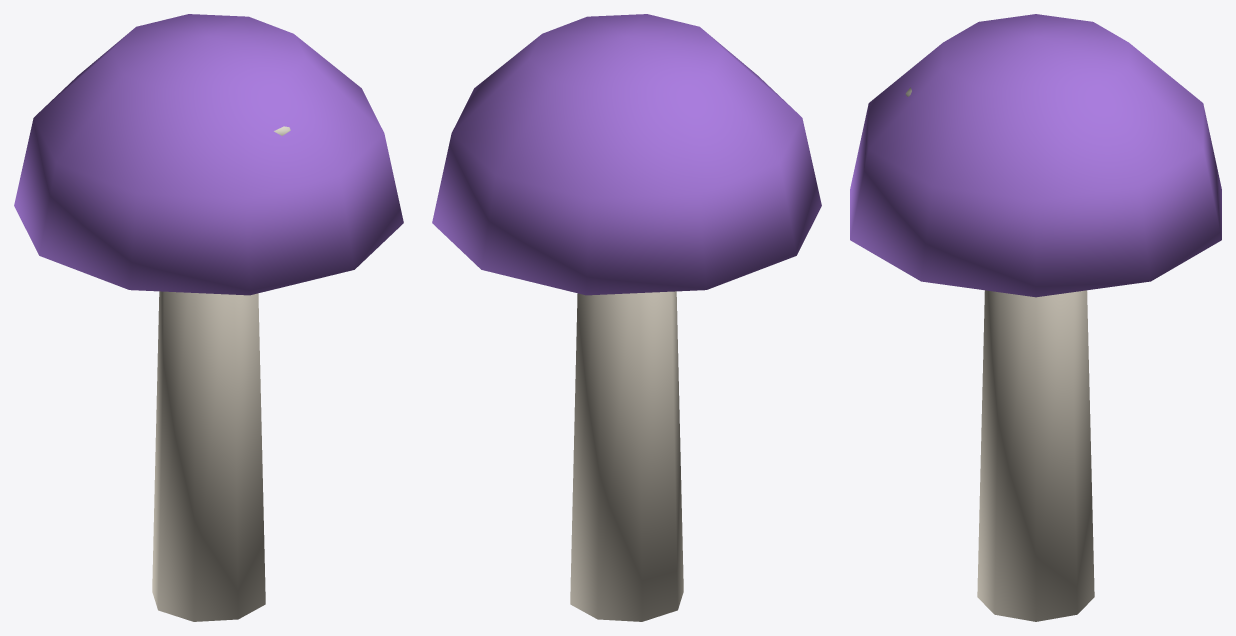
The model's file is strange_glowing_mushroom.glb.
3 renders of one model, left to right at view 1: azimuth 30°, elevation 25°; view 2: azimuth 150°, elevation 25°; view 3: azimuth 270°, elevation 25°, orthographic.
Visible parts, largest first — view 1: strange_glowing_mushroom_v0; view 2: strange_glowing_mushroom_v0; view 3: strange_glowing_mushroom_v0.
Boxes of the visible parts, x1,y1,x2,y2 form: strange_glowing_mushroom_v0: (14, 14, 403, 621); strange_glowing_mushroom_v0: (432, 14, 821, 621); strange_glowing_mushroom_v0: (850, 14, 1221, 621).
Size of the model in its own units: 0.2 by 0.3159 by 0.1902.
